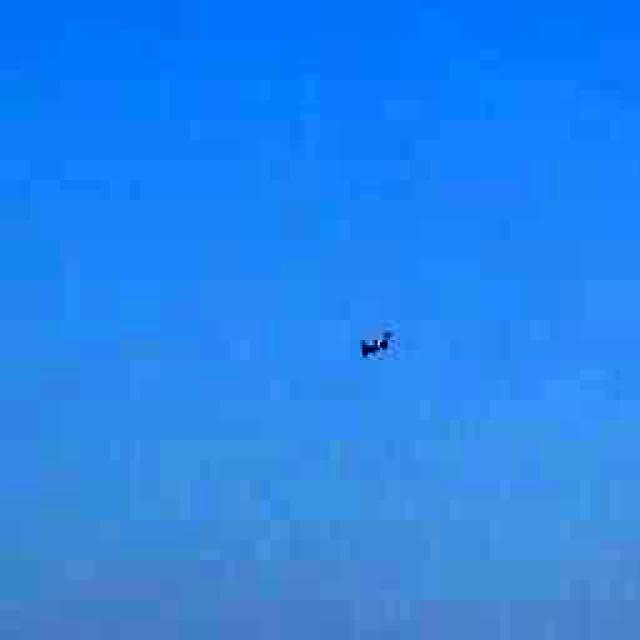bird: (335, 315, 410, 382)
